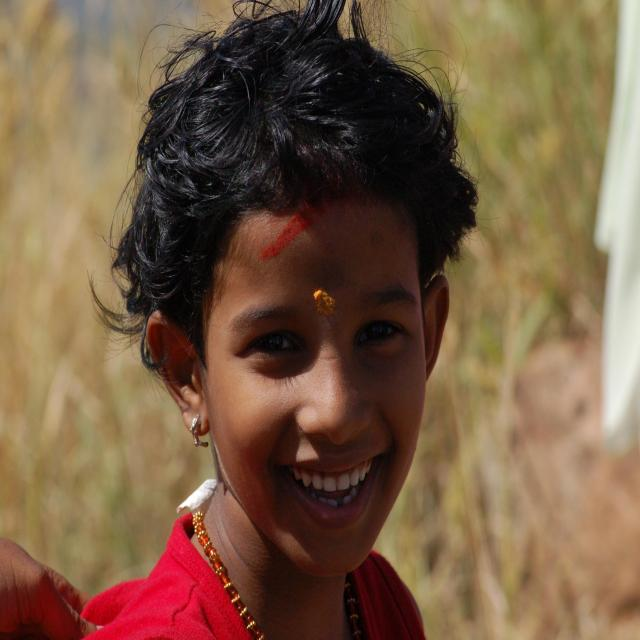no-glass: (236, 316, 408, 360)
